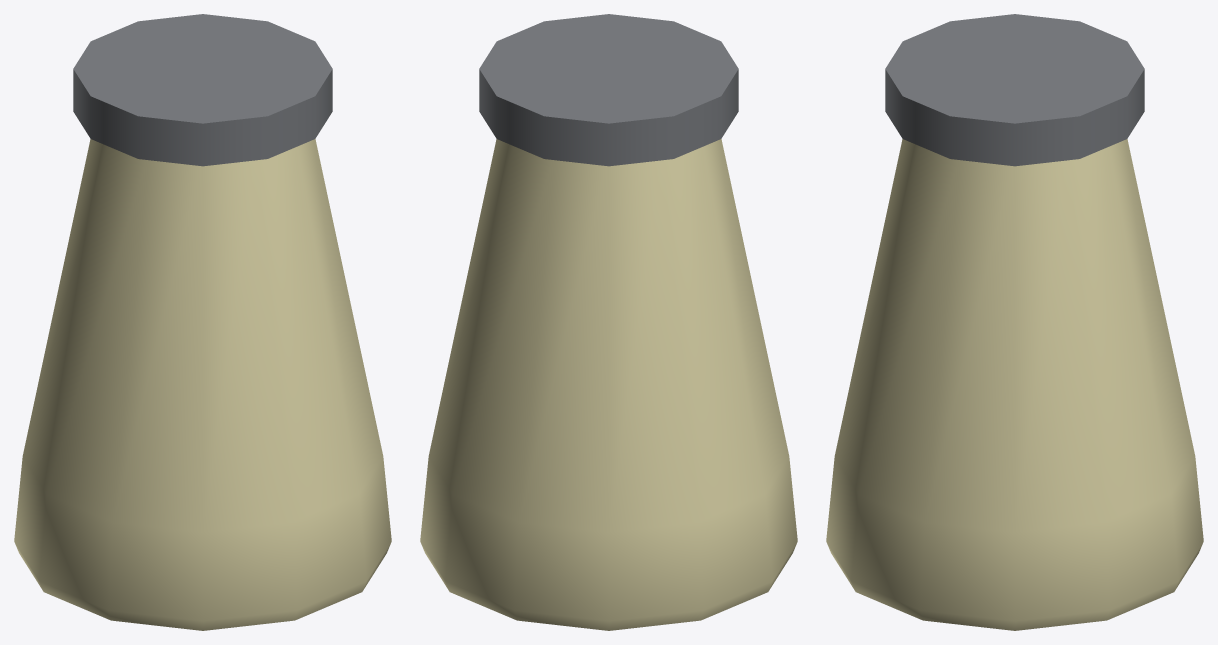
The model's file is Salt.fbx.
The picture shows the model from 3 angles, left to right: view 1: azimuth 30°, elevation 25°; view 2: azimuth 150°, elevation 25°; view 3: azimuth 270°, elevation 25°; orthographic projection.
Parts seen in each view (by area): view 1: Salt; view 2: Salt; view 3: Salt.
Part boxes in pixels (box(x1,y1,x2,y2)): Salt: box(14, 14, 391, 630); Salt: box(420, 14, 797, 630); Salt: box(826, 14, 1203, 630).
Size of the model in its own units: 53.07 by 53.07 by 76.18.
